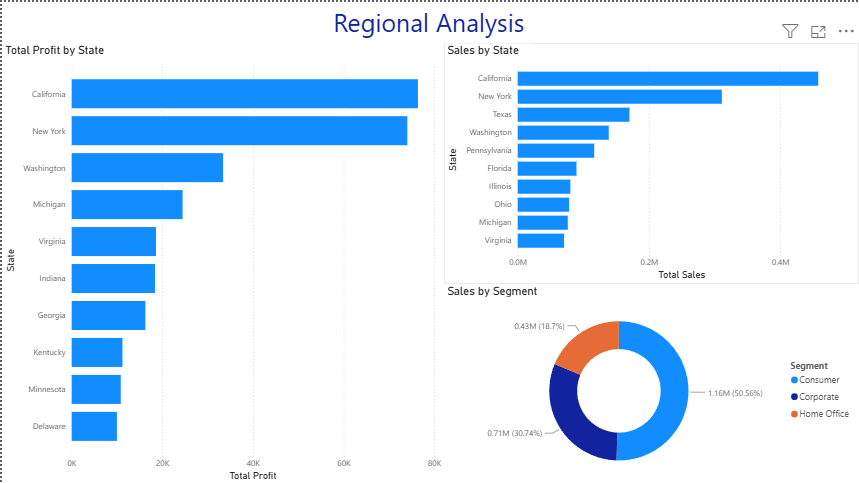

This screenshot's page, from the dashboard's own definition file:
{"tool":"powerbi","page":{"name":"Regional Analysis","canvas":[1280,720],"ordinal":2},"visuals":[{"type":"clusteredBarChart","title":"Sales by State","fields":{"Category":["Sample - Superstore data set.State"],"Y":["Sample - Superstore data set.Total Sales"]},"box":[660.3,61.9,619,358.7],"z":0},{"type":"clusteredBarChart","fields":{"Category":["Sample - Superstore data set.State"],"Y":["Sample - Superstore data set.Total Profit"]},"box":[0,61.9,660.3,658.7],"z":1000},{"type":"donutChart","title":"Sales by Segment","fields":{"Category":["Sample - Superstore data set.Segment"],"Y":["Sample - Superstore data set.Total Sales"]},"box":[660.3,420.6,619,300],"z":2000},{"type":"textbox","box":[488.9,0,300,61.9],"z":3000}]}

Visuals, with their boxes in screenshot pixels (x1, y1, x2, y2), scaled from the page's 1280x720 canvas onto the 859x483 screenshot:
"Sales by State" clusteredBarChart: 443, 42, 858, 282
clusteredBarChart - Sample - Superstore data set.State x Sample - Superstore data set.Total Profit: 0, 42, 443, 482
"Sales by Segment" donutChart: 443, 282, 858, 482
textbox: 328, 0, 529, 42
